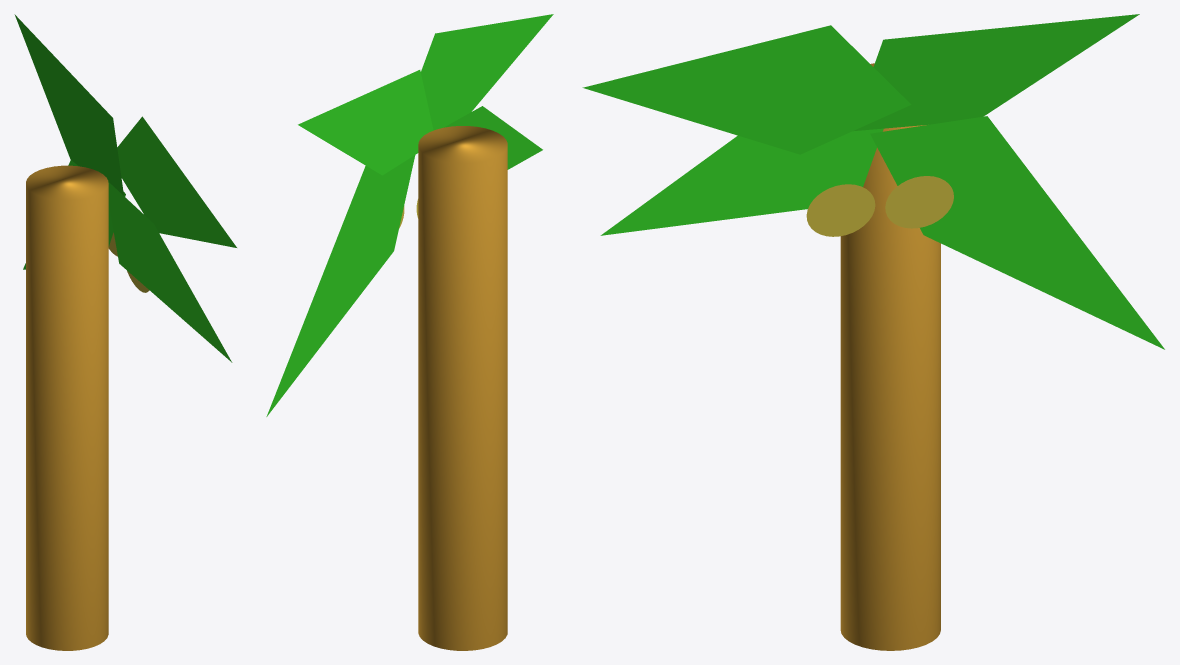
Rendered from PalmTree_ver3.fbx.
The picture shows the model from 3 angles, left to right: view 1: azimuth 30°, elevation 25°; view 2: azimuth 150°, elevation 25°; view 3: azimuth 270°, elevation 25°; orthographic projection. The views are drawn at different scales.
Visible parts, largest first — view 1: 円柱, 平面, 平面.001, 平面.003; view 2: 円柱, 平面.002, 平面, 平面.001, 平面.003; view 3: 円柱, 平面.002, 平面, 平面.001, 平面.003, 円, 円.001.
Part boxes in pixels (x1,y1,x2,y2): 円柱: [26, 165, 108, 650]; 平面: [117, 116, 236, 247]; 平面.001: [14, 14, 123, 195]; 平面.003: [108, 182, 232, 362]; 円柱: [418, 126, 507, 650]; 平面.002: [266, 155, 415, 416]; 平面: [420, 14, 553, 130]; 平面.001: [298, 70, 433, 175]; 平面.003: [444, 106, 542, 169]; 円柱: [840, 63, 940, 650]; 平面.002: [870, 116, 1164, 349]; 平面: [582, 25, 911, 154]; 平面.001: [853, 14, 1139, 131]; 平面.003: [600, 128, 883, 235]; 円: [806, 184, 875, 236]; 円.001: [885, 176, 953, 228].
Size of the model in its own units: 292 by 1417 by 1161.
